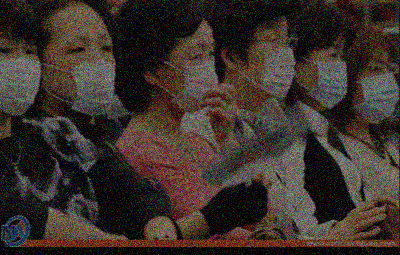with_mask: (47, 31, 117, 116), (161, 39, 220, 115), (241, 22, 297, 97), (0, 33, 42, 117), (300, 43, 350, 110), (356, 57, 400, 124)
